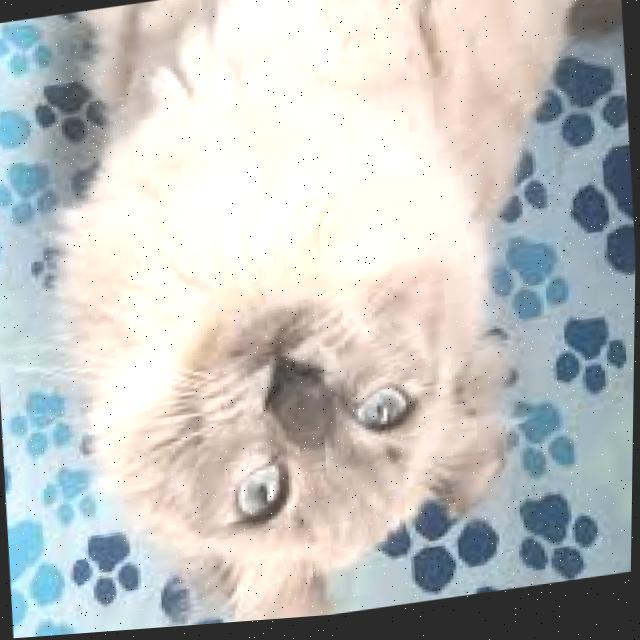American Curl: (28, 0, 626, 638)
